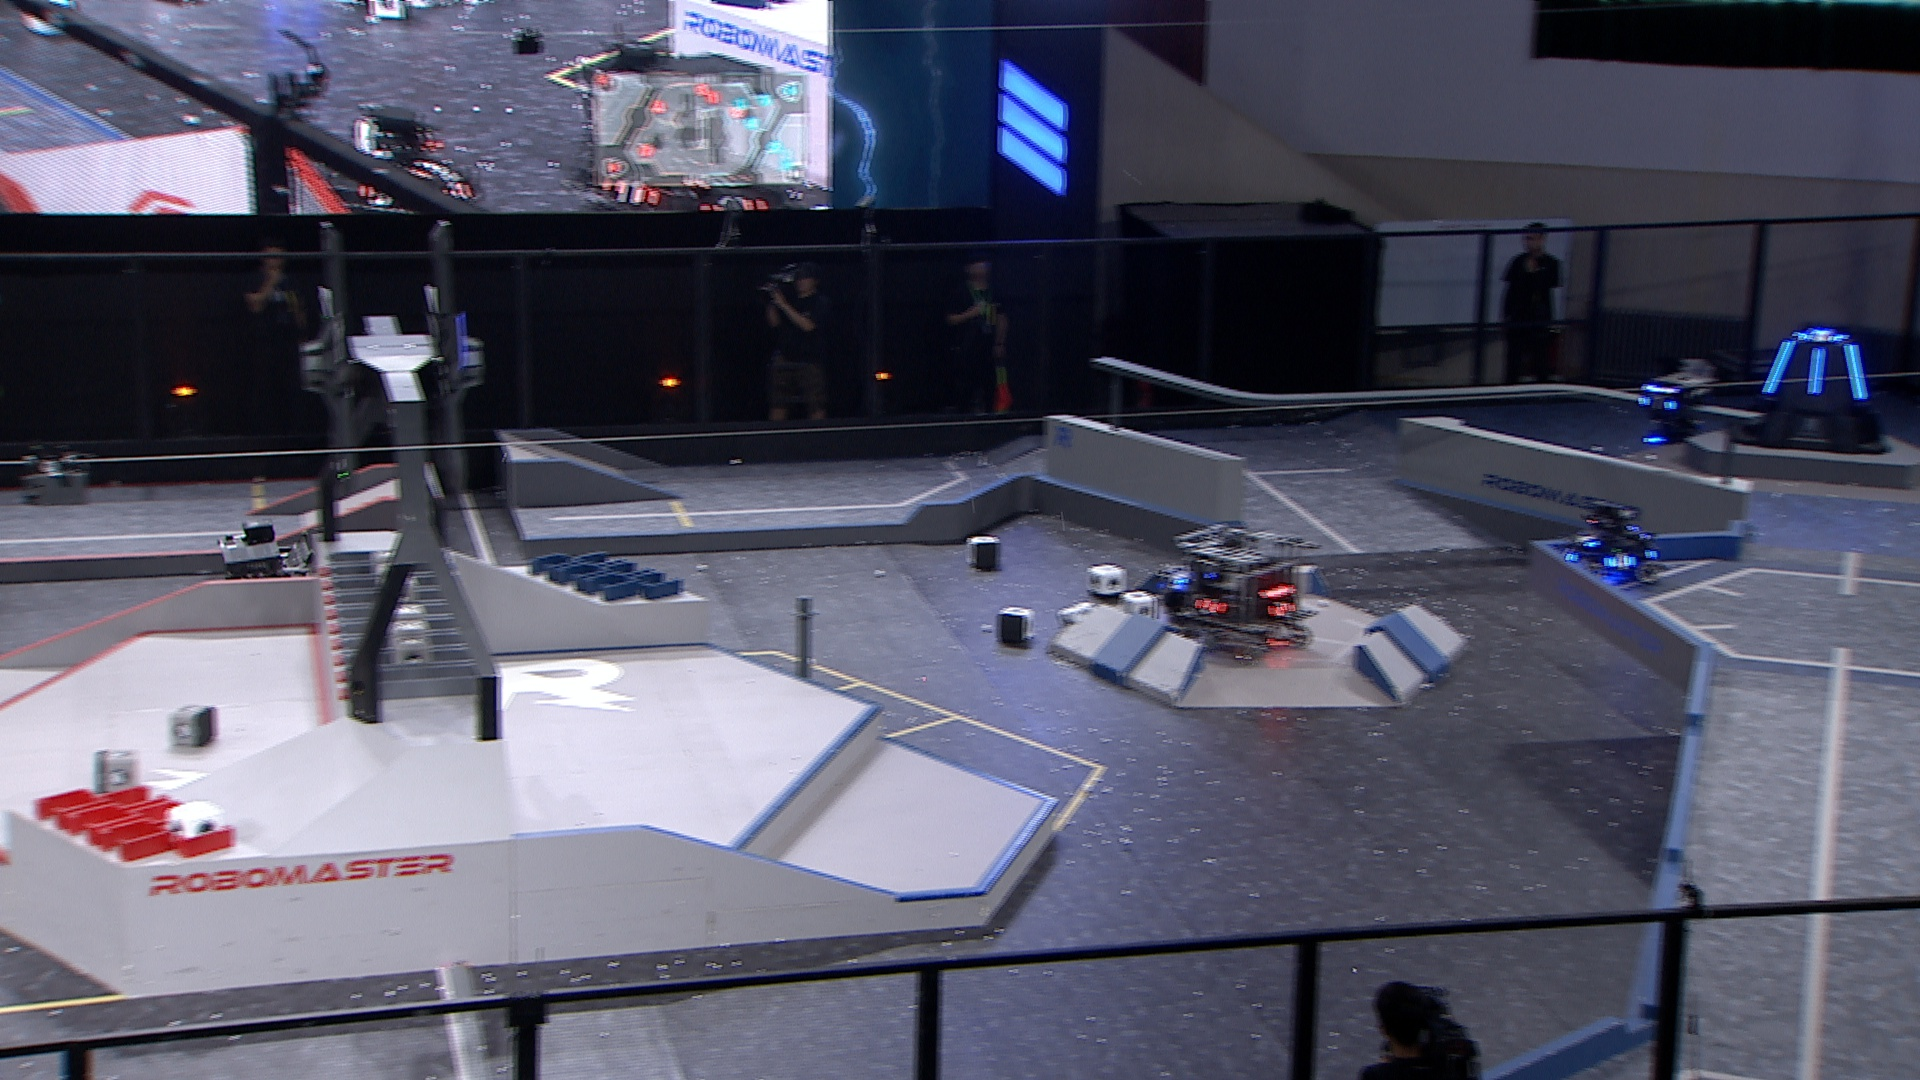armor: (1760, 338, 1797, 396), (1841, 342, 1871, 401), (1807, 344, 1830, 398), (1634, 394, 1680, 417), (1192, 597, 1225, 621), (1799, 328, 1845, 344), (1567, 531, 1602, 551), (1604, 551, 1640, 570), (1267, 599, 1300, 618), (1556, 546, 1580, 564)
base: (1727, 324, 1896, 458)
car: (1168, 520, 1313, 659), (214, 531, 320, 645), (1555, 498, 1665, 585)
ignore: (576, 46, 787, 216), (315, 102, 484, 228)
watcher: (1633, 373, 1713, 447)
